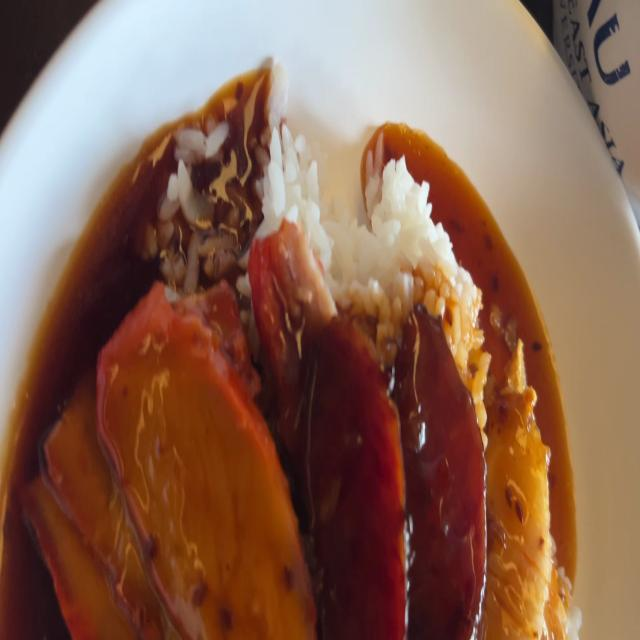stir_fried_basil: (302, 294, 488, 640), (310, 313, 415, 640), (392, 304, 478, 640)
